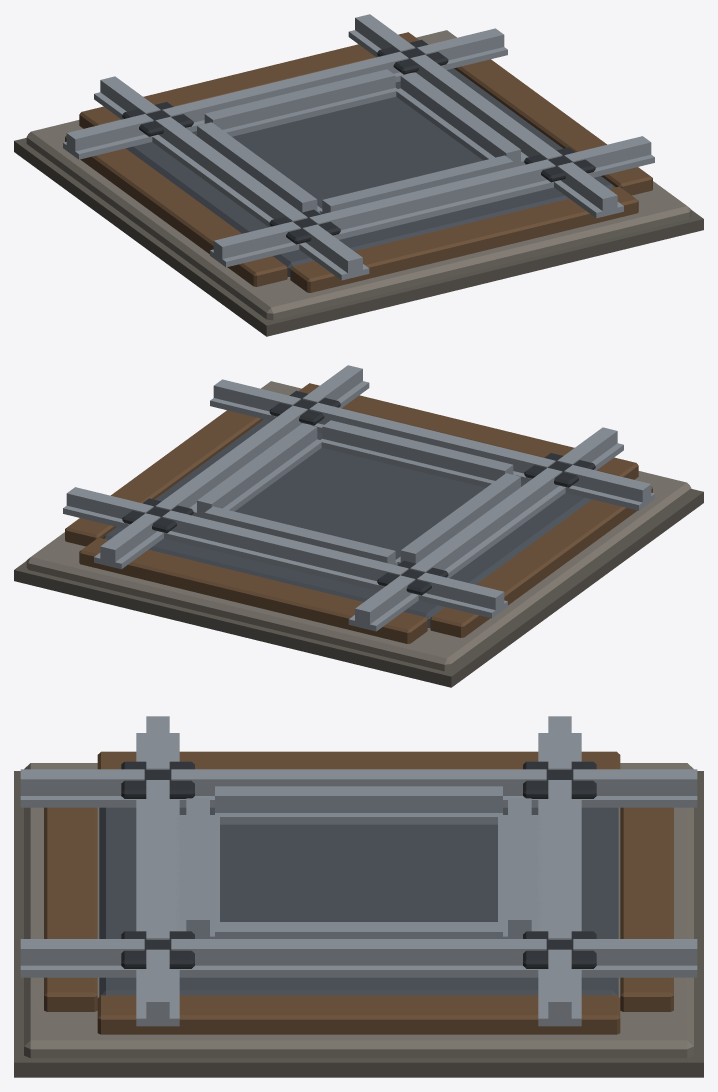
The model's file is rail_croisement.glb.
3 renders of one model, top to bottom at view 1: azimuth 30°, elevation 25°; view 2: azimuth 150°, elevation 25°; view 3: azimuth 270°, elevation 25°, orthographic. The views are drawn at different scales.
Parts seen in each view (by area): view 1: rail_rail.002, rail_traverse.002, rail_acier_sombre.002, rail_ballast.002, rail_acier.002, rail_ballast_sombre.002, rail_fonte.002; view 2: rail_rail.002, rail_traverse.002, rail_acier_sombre.002, rail_ballast.002, rail_acier.002, rail_ballast_sombre.002, rail_fonte.002; view 3: rail_rail.002, rail_acier_sombre.002, rail_traverse.002, rail_ballast.002, rail_acier.002, rail_ballast_sombre.002, rail_fonte.002.
Boxes of the visible parts, x1,y1,x2,y2 form: rail_rail.002: (63, 14, 654, 280); rail_traverse.002: (65, 32, 652, 292); rail_acier_sombre.002: (126, 68, 615, 276); rail_ballast.002: (26, 30, 691, 320); rail_acier.002: (197, 69, 525, 214); rail_ballast_sombre.002: (14, 138, 703, 336); rail_fonte.002: (122, 39, 595, 244); rail_rail.002: (63, 365, 654, 631); rail_traverse.002: (65, 383, 652, 643); rail_acier_sombre.002: (102, 419, 591, 627); rail_ballast.002: (26, 381, 691, 671); rail_acier.002: (192, 420, 520, 565); rail_ballast_sombre.002: (14, 489, 703, 687); rail_fonte.002: (122, 390, 595, 595); rail_rail.002: (20, 716, 697, 1026); rail_acier_sombre.002: (99, 807, 618, 996); rail_traverse.002: (44, 751, 673, 1034); rail_ballast.002: (24, 763, 693, 1058); rail_acier.002: (176, 786, 541, 938); rail_ballast_sombre.002: (14, 771, 703, 1077); rail_fonte.002: (121, 761, 596, 968).
Size of the model in its own units: 1.03 by 0.12 by 1.03.
